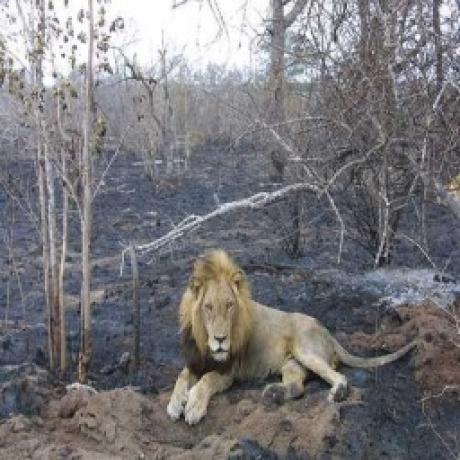Lion: (165, 247, 416, 424)
